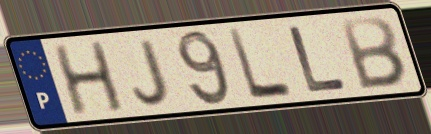9: (173, 28, 233, 108)
B: (337, 14, 410, 92)
H: (50, 39, 129, 118)
J: (130, 36, 172, 108)
L: (224, 26, 297, 103), (284, 23, 351, 95)
